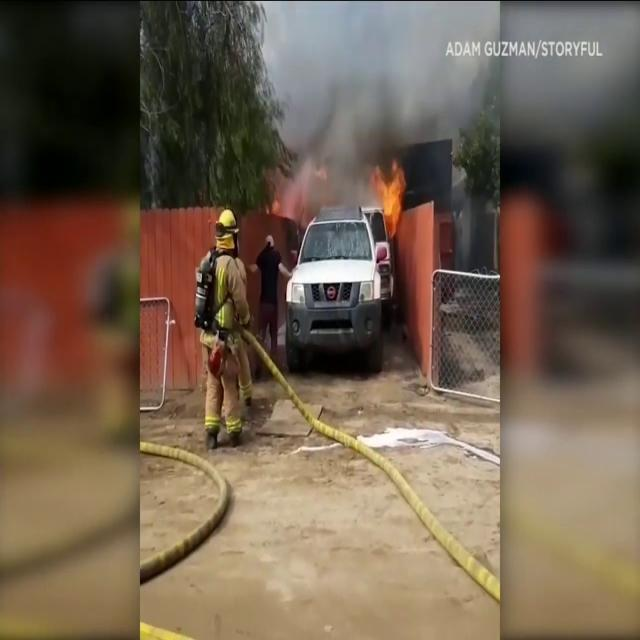Fire: (376, 160, 406, 235)
Smoke: (272, 2, 494, 211)
